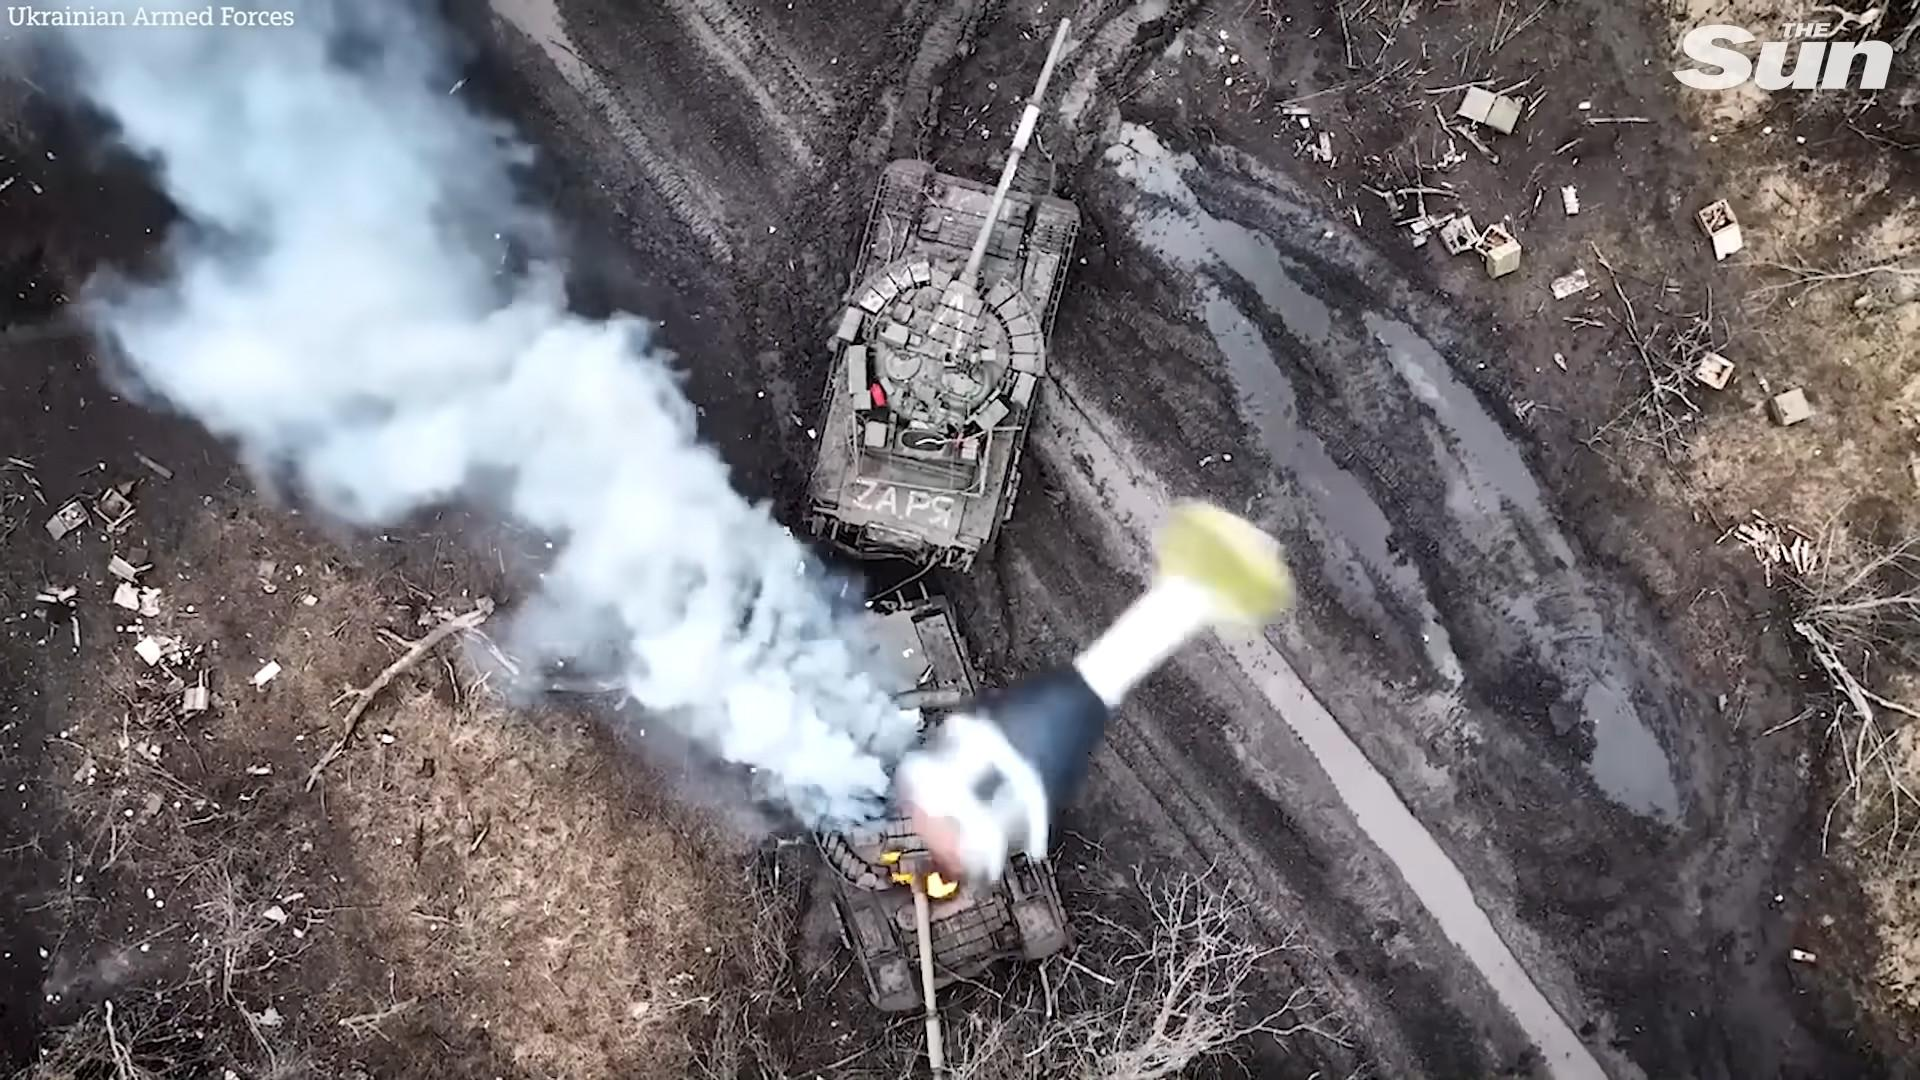tank: (746, 596, 1072, 1079), (804, 18, 1079, 572)
